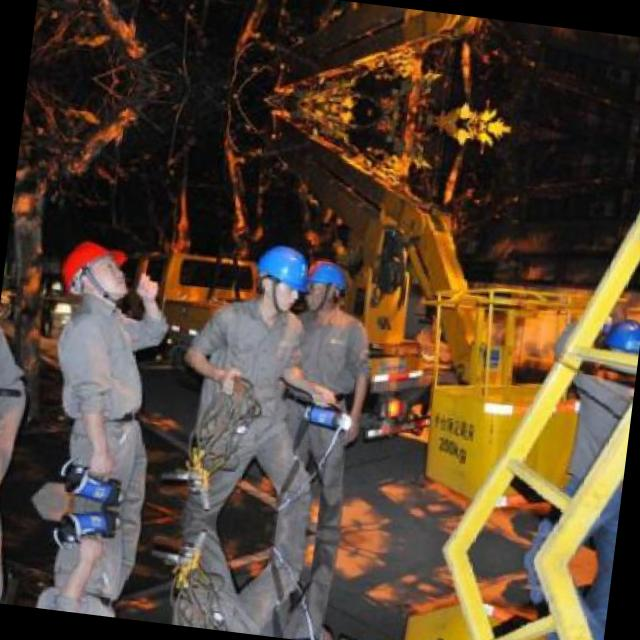helmet: (59, 234, 134, 305), (250, 238, 311, 312), (300, 256, 348, 316), (599, 309, 640, 376)
